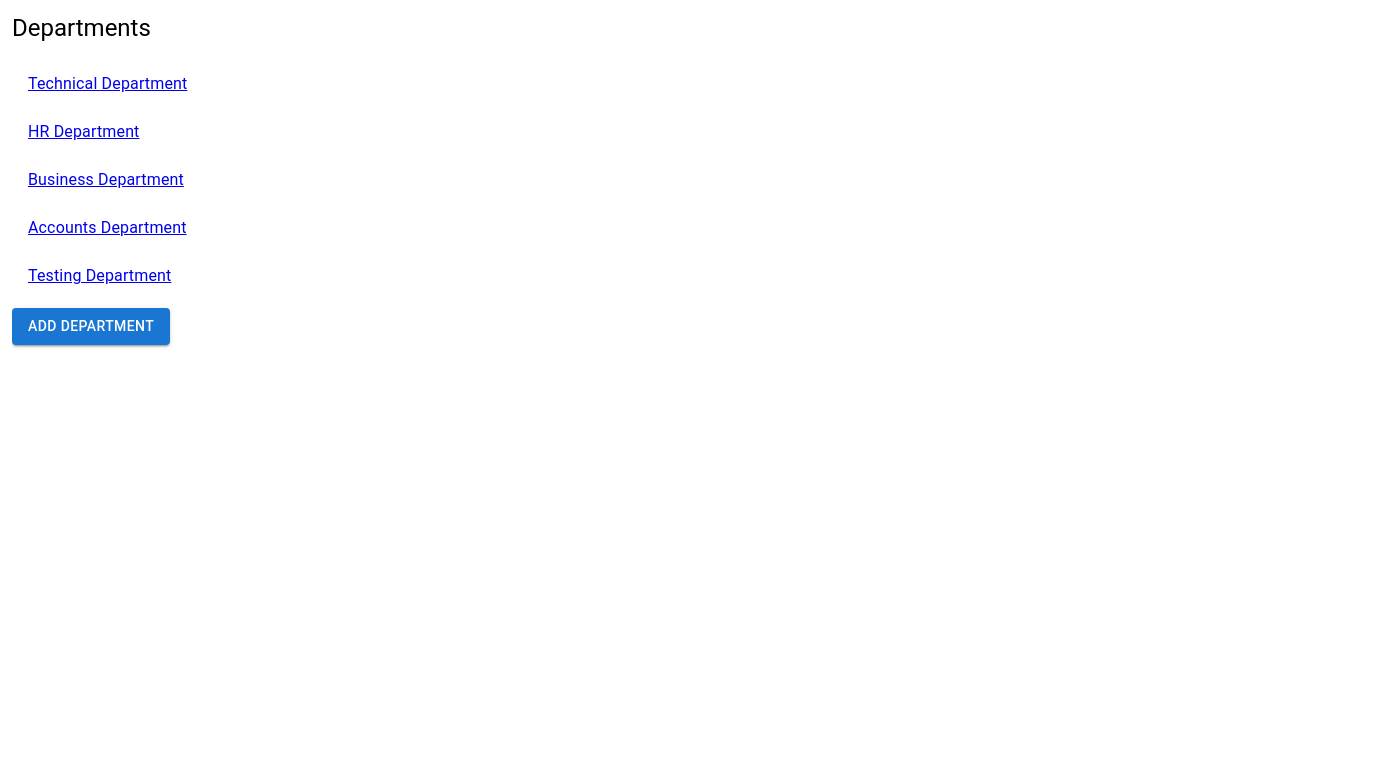
Department Management - Task › should display department details when a department is clicked
The width and height of the screenshot is (1378, 780).
Click the button with class "department-item" showing "Technical Department" at (108,84), box [28,74,187,93]
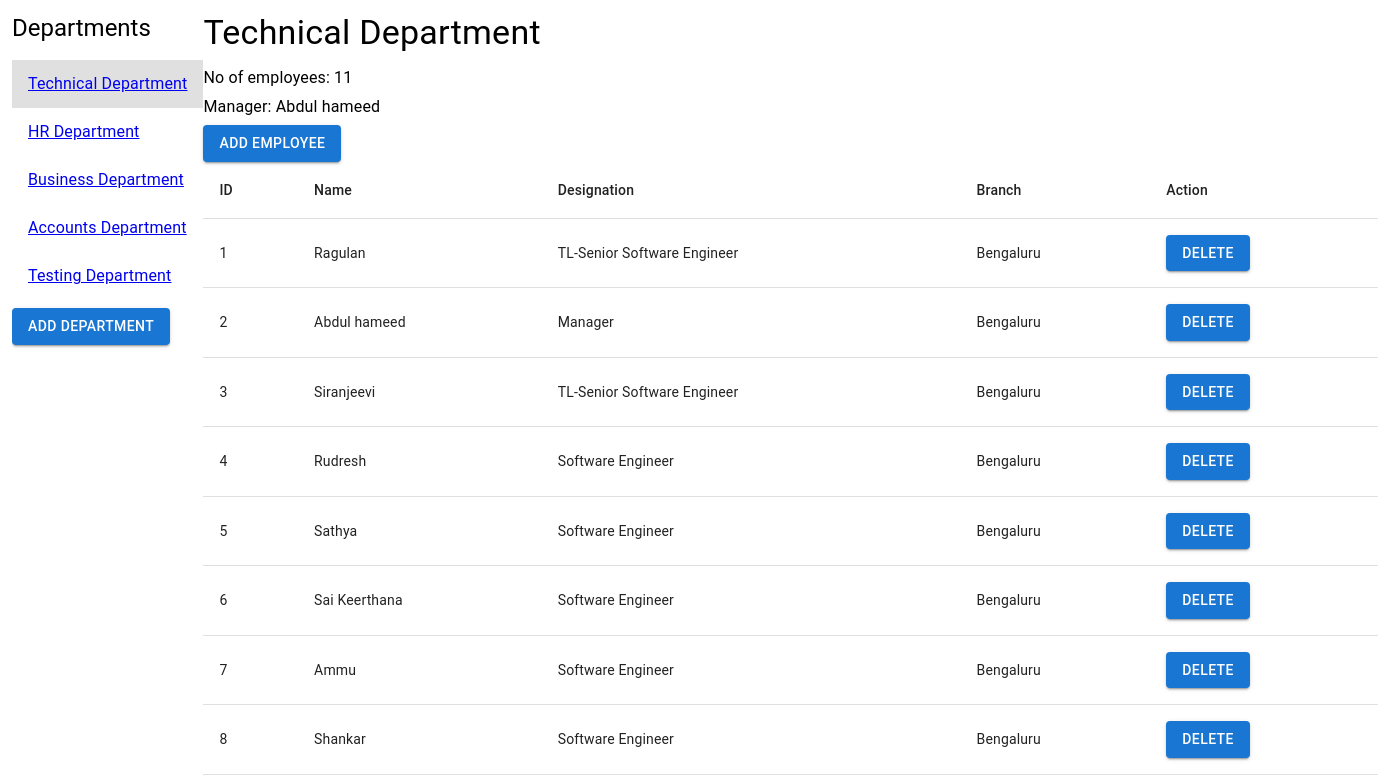
Expected: the element with class "department-details" is shown, [203,12,540,162]
Expected: the heading "Technical Department" is shown, [203,12,541,52]
Expected: the text "No of employees: 11" is shown, [203,68,352,87]
